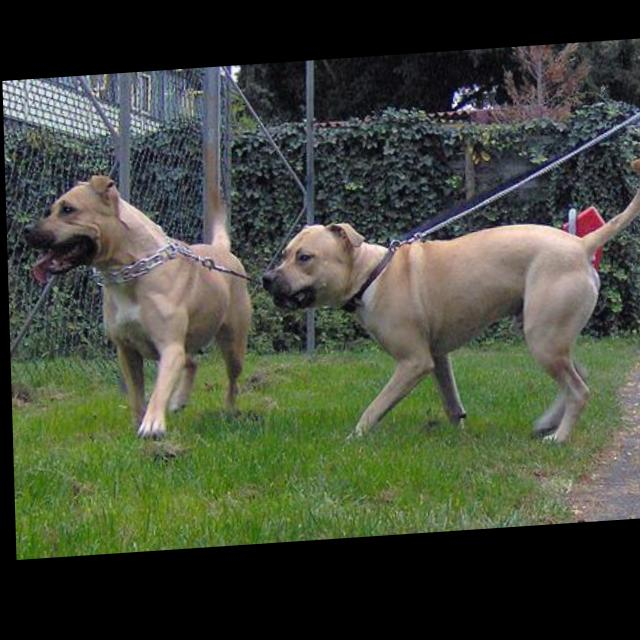staffford: (258, 165, 640, 468), (19, 68, 255, 450)
